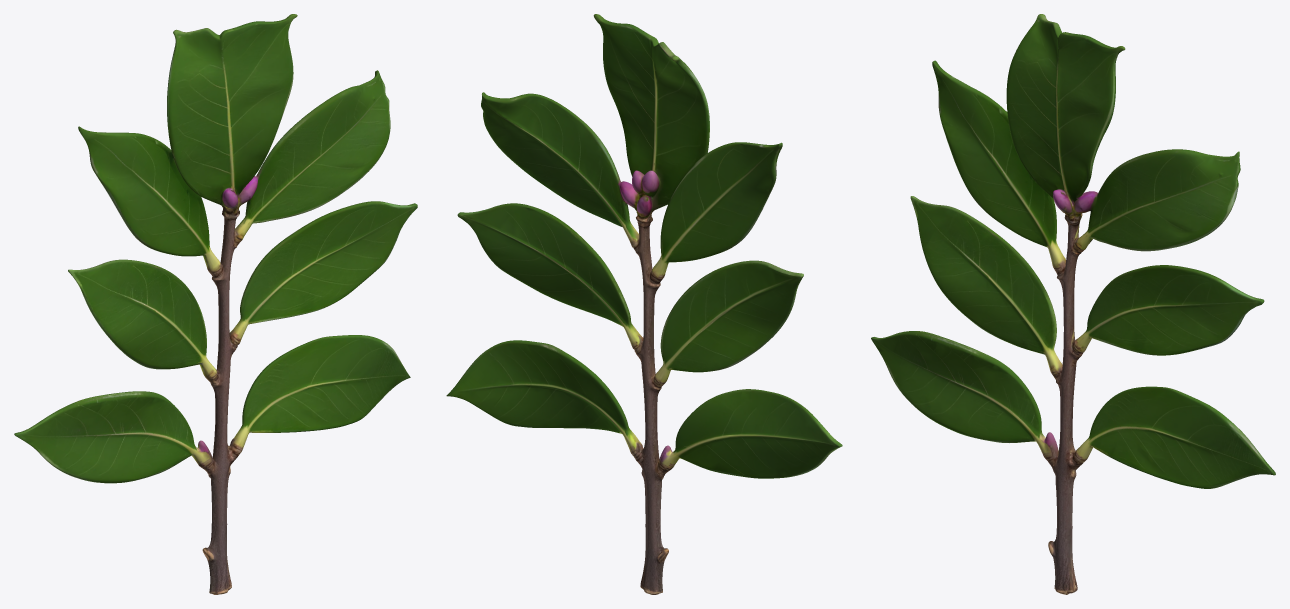
The model's file is tanxiang.glb.
3 renders of one model, left to right at view 1: azimuth 30°, elevation 25°; view 2: azimuth 150°, elevation 25°; view 3: azimuth 330°, elevation 25°, orthographic. The views are drawn at different scales.
Visible parts, largest first — view 1: node_0; view 2: node_0; view 3: node_0.
Part boxes in pixels (box(x1,y1,x2,y2)): node_0: box(14, 14, 417, 594); node_0: box(446, 14, 842, 594); node_0: box(871, 14, 1275, 594).
Bounding box in the file's own units: 0.8573 × 1.17 × 0.0991.
Materials: 1 (1 with a texture image).
